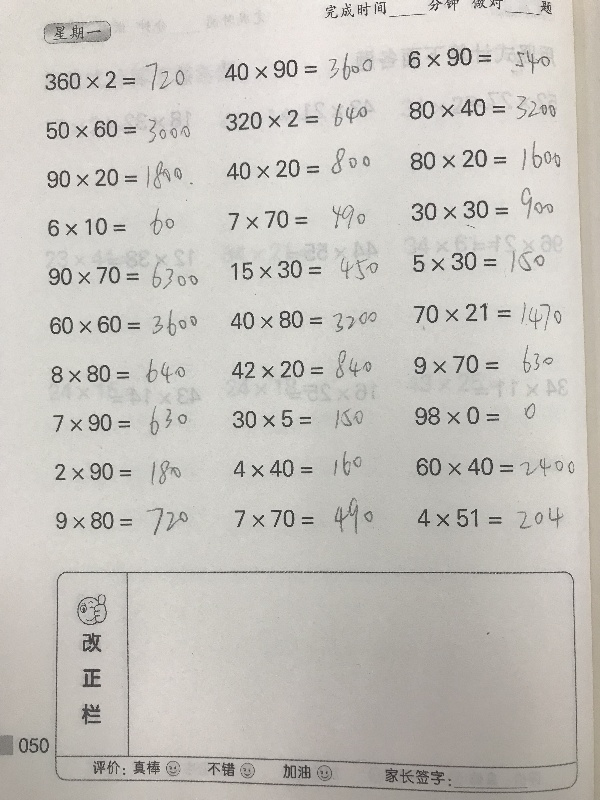equation: (408, 183, 555, 233), (231, 491, 376, 531), (45, 258, 202, 293), (406, 137, 563, 172), (220, 49, 376, 84), (41, 55, 187, 92), (404, 41, 553, 77), (44, 158, 197, 193), (228, 347, 376, 383), (410, 296, 565, 330), (225, 197, 372, 232), (222, 149, 373, 183), (222, 98, 373, 132), (46, 307, 201, 340), (227, 250, 382, 282), (406, 91, 560, 123), (49, 401, 193, 435), (43, 115, 195, 147), (409, 344, 554, 377), (414, 500, 561, 531), (51, 502, 193, 534), (47, 354, 189, 386), (226, 307, 380, 336), (43, 206, 178, 239), (53, 453, 187, 486), (230, 448, 364, 481), (413, 454, 579, 480), (229, 402, 367, 431), (412, 398, 541, 429), (409, 246, 547, 274)
